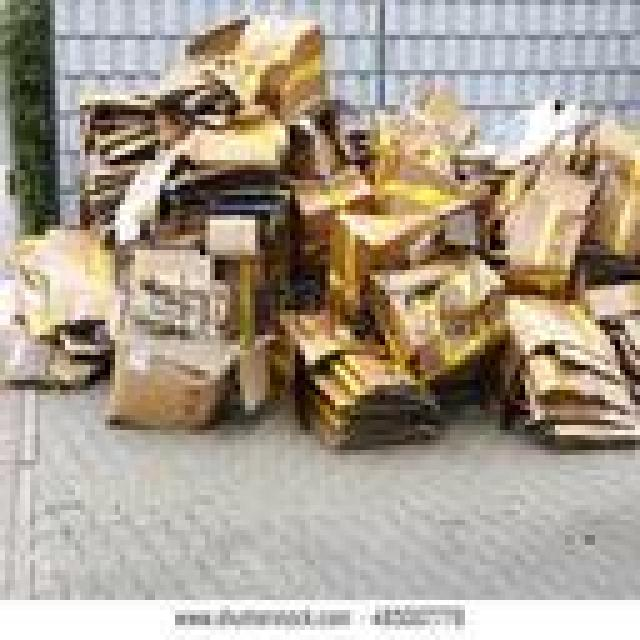cardboard: (75, 80, 280, 260), (100, 225, 270, 425), (320, 205, 495, 380), (490, 125, 635, 290), (490, 285, 635, 445), (280, 295, 435, 440), (175, 10, 330, 135), (5, 225, 120, 385), (355, 80, 475, 205), (280, 110, 365, 280)
